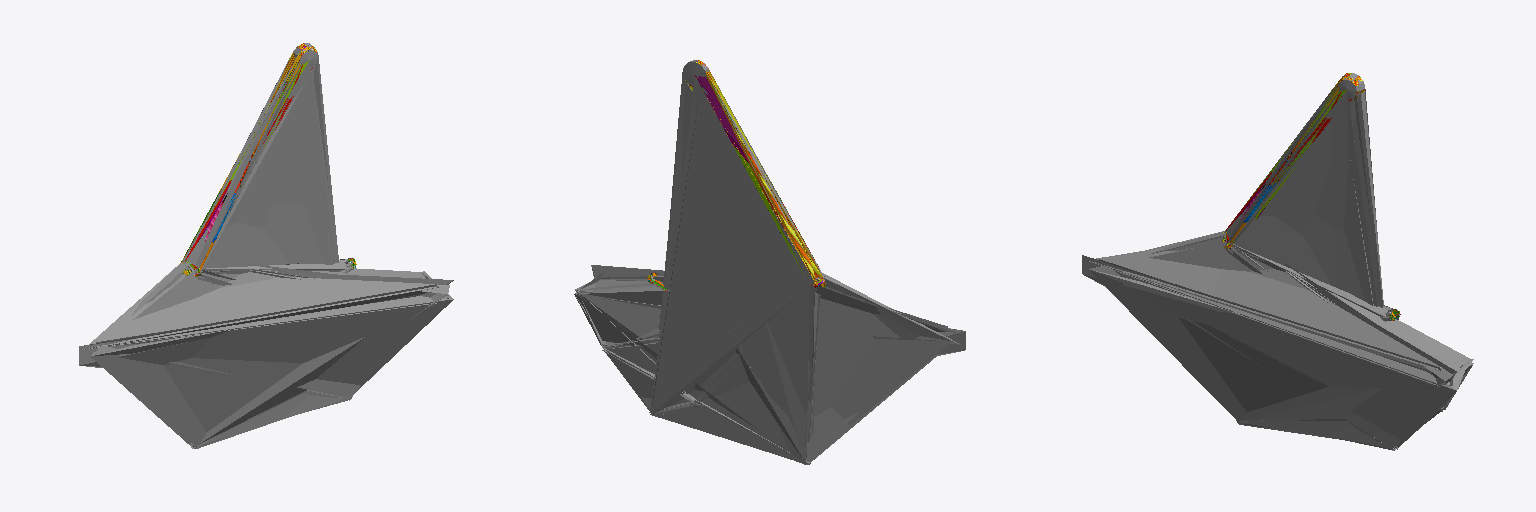
The picture shows the model from 3 angles: view 1: azimuth 30°, elevation 25°; view 2: azimuth 150°, elevation 25°; view 3: azimuth 330°, elevation 25°; orthographic projection.
Parts seen in each view (by area): view 1: _proxyGeneral, armchair-17, sofa-12; view 2: _proxyGeneral, bed-09, armchair-17; view 3: _proxyGeneral, armchair-17, sofa-12.
Boxes of the visible parts, x1,y1,x2,y2 form: _proxyGeneral: [79, 57, 453, 448]; armchair-17: [182, 57, 312, 276]; sofa-12: [185, 60, 302, 273]; _proxyGeneral: [574, 72, 965, 464]; bed-09: [695, 75, 822, 284]; armchair-17: [690, 76, 824, 285]; _proxyGeneral: [1082, 83, 1473, 450]; armchair-17: [1223, 84, 1351, 246]; sofa-12: [1224, 80, 1356, 246].
Bounding box in the file's own units: 16.46 × 15.82 × 1.99.
Materials: 8 (6 with a texture image).